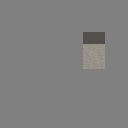supply_truck: (83, 32, 105, 69)
